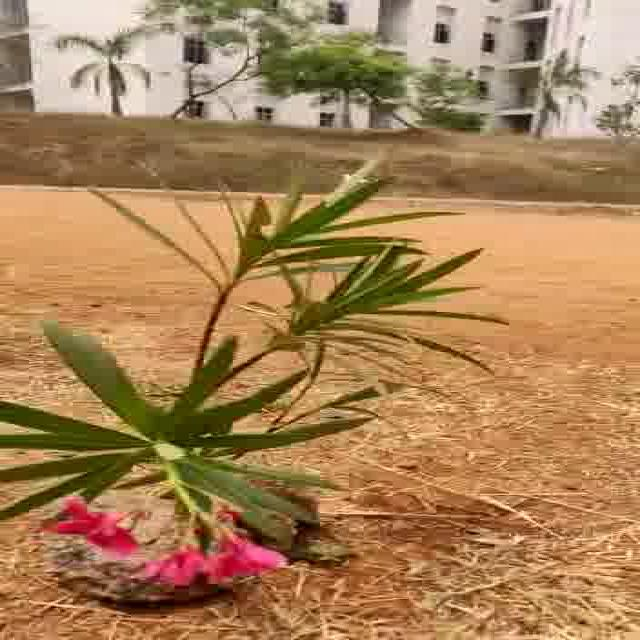OLEANDER: (7, 170, 558, 583)
